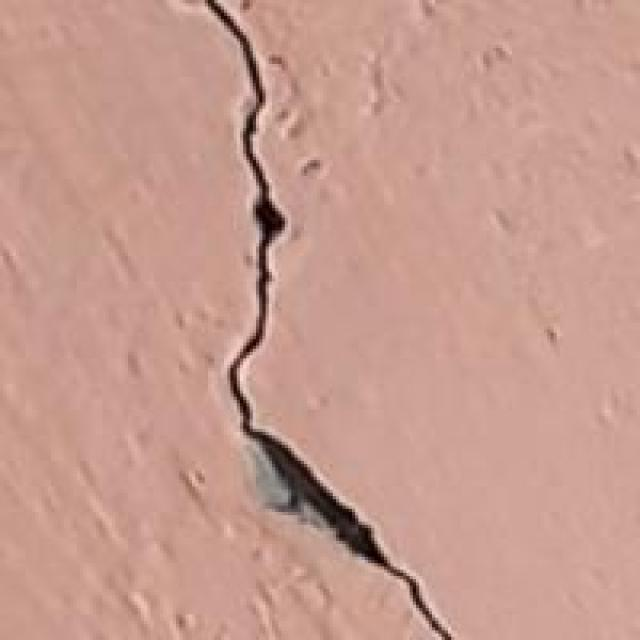crack: (195, 0, 483, 637)
